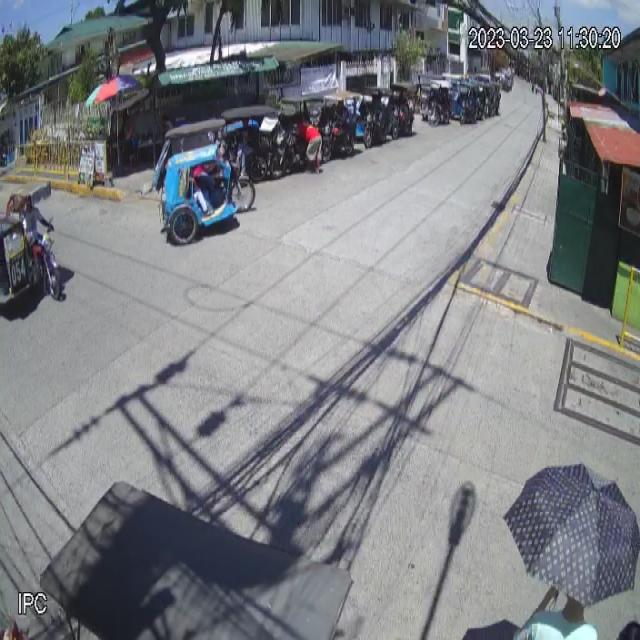Tricycle: (152, 117, 255, 245), (0, 180, 61, 307)
